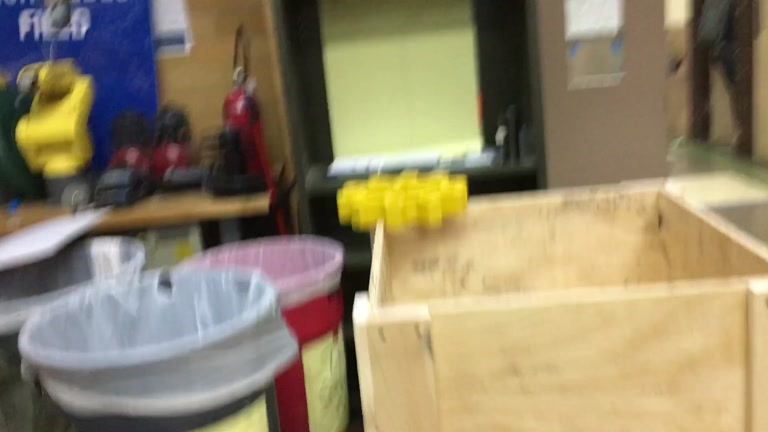gear: (336, 166, 468, 233)
